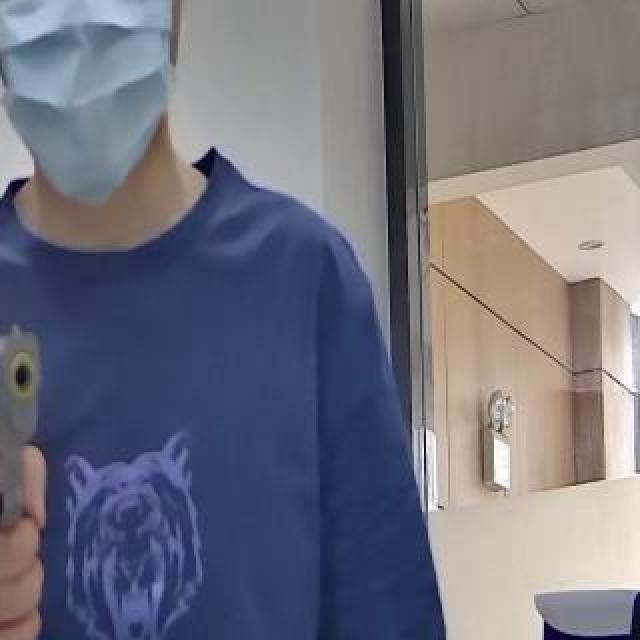Guns: (0, 264, 66, 604)
